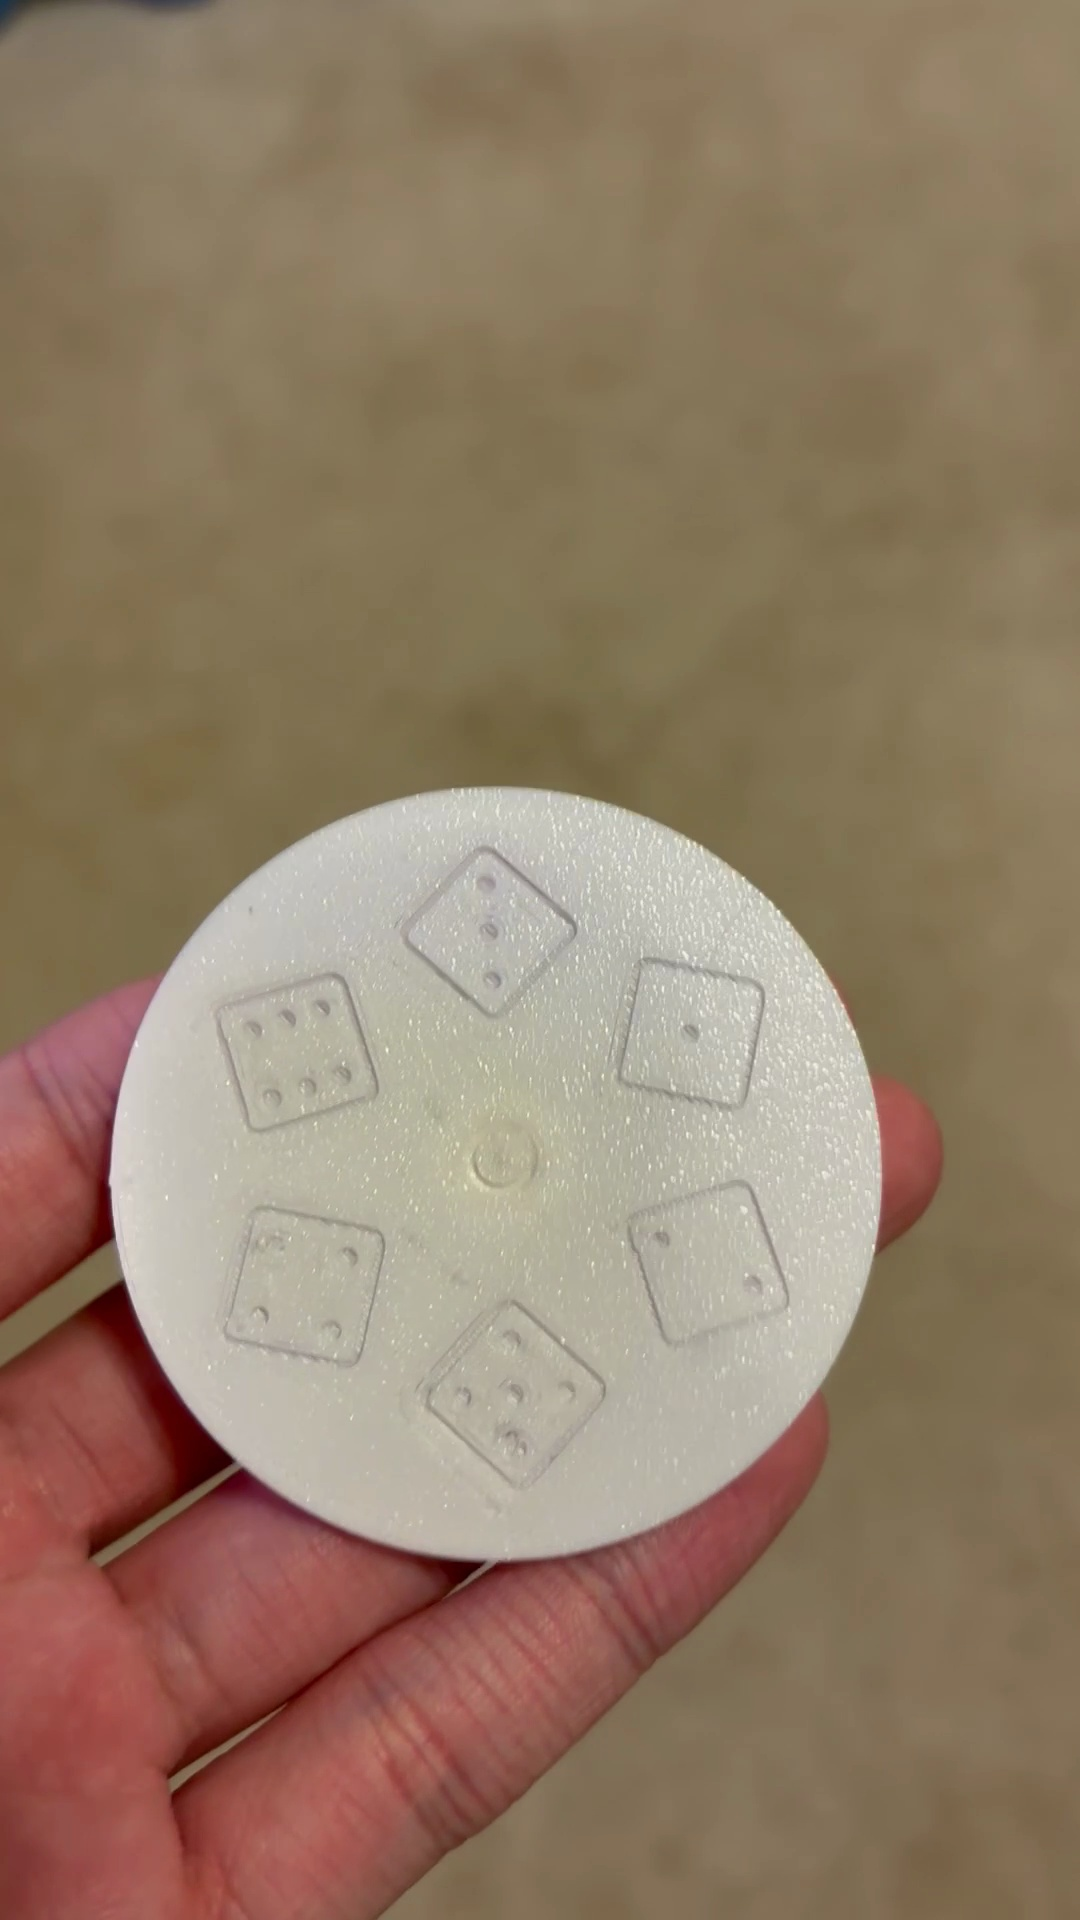Part1: (110, 788, 880, 1563)
